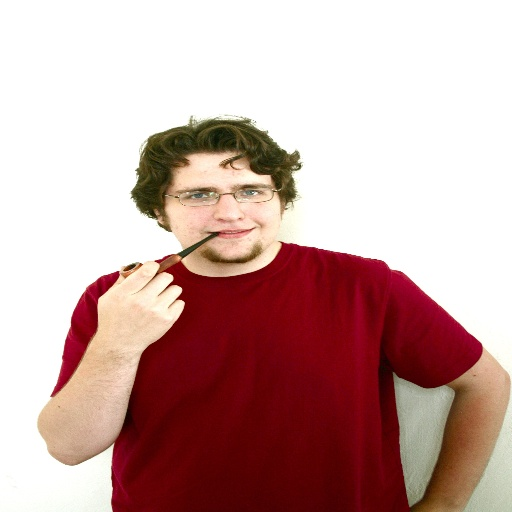hand: (78, 244, 191, 387)
